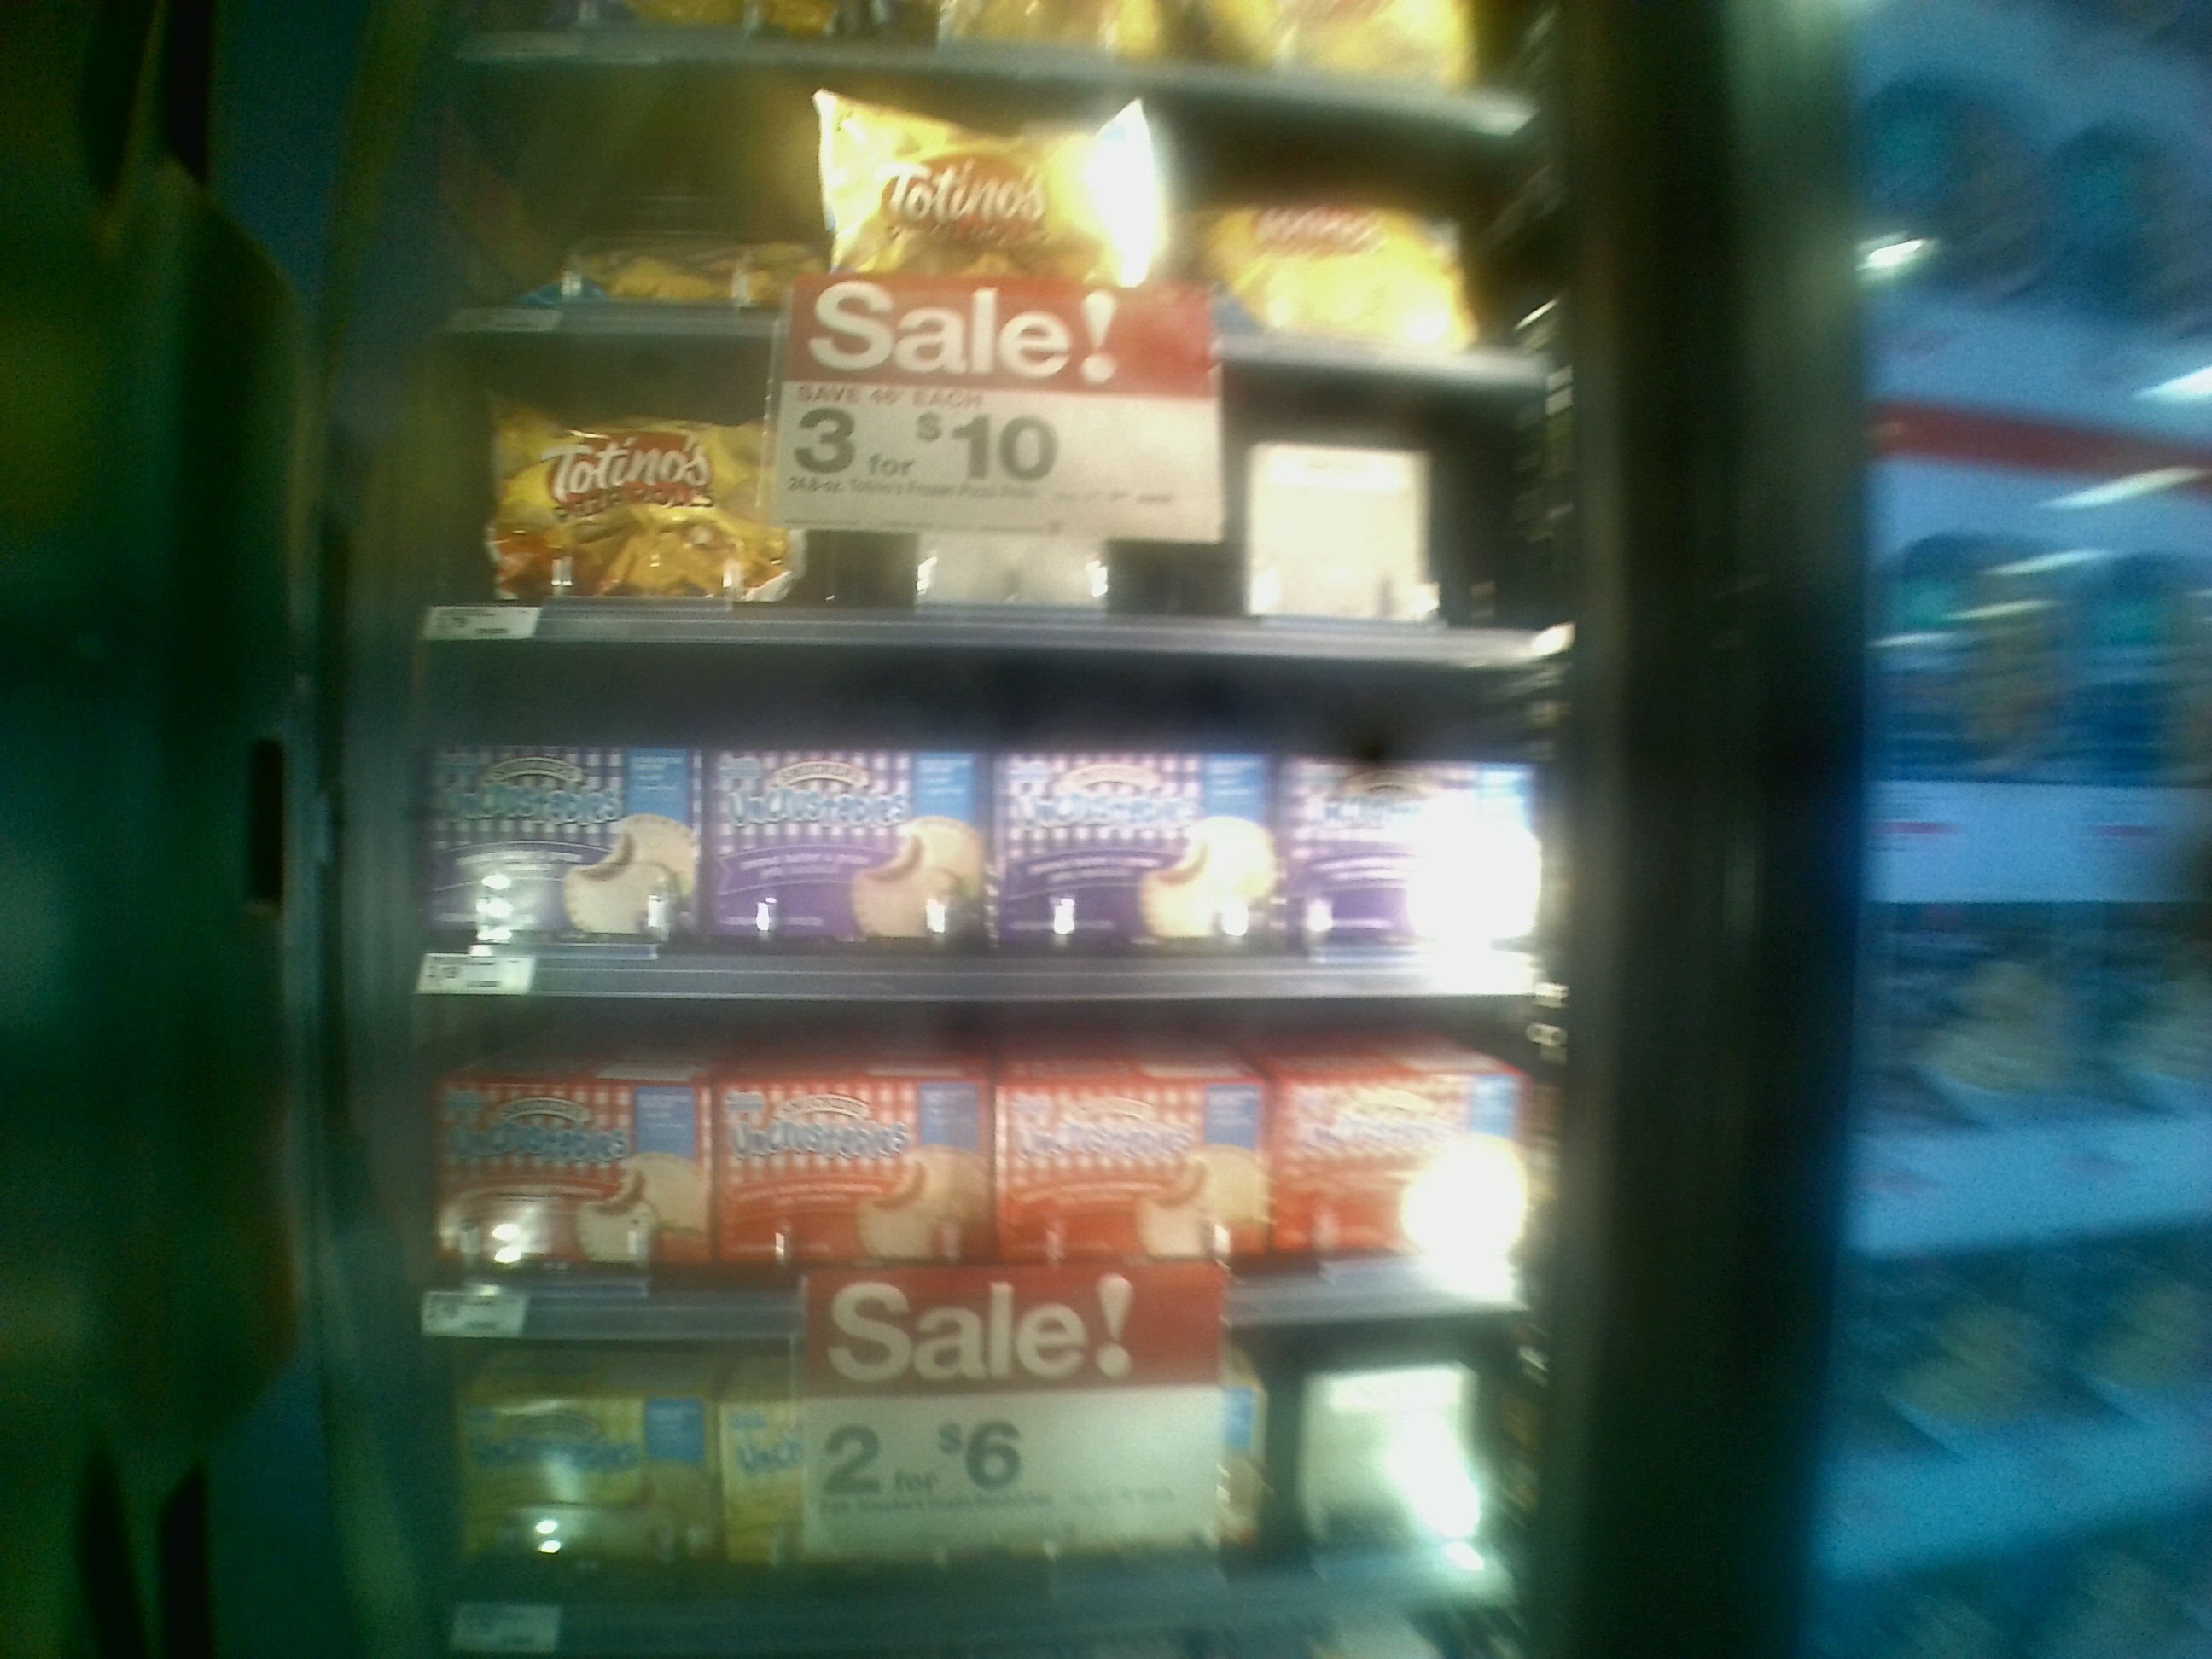shelf: (376, 641, 1561, 1004), (402, 324, 1569, 678), (392, 1009, 1550, 1340)
